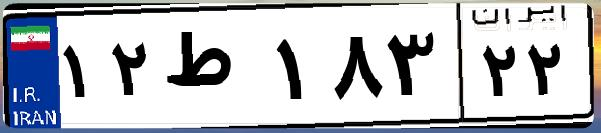1: (270, 28, 330, 110), (57, 26, 110, 100)
2: (475, 38, 525, 113), (525, 38, 570, 115), (110, 28, 158, 98)
3: (385, 28, 445, 110)
8: (330, 28, 385, 110)
ط: (158, 20, 270, 120)
